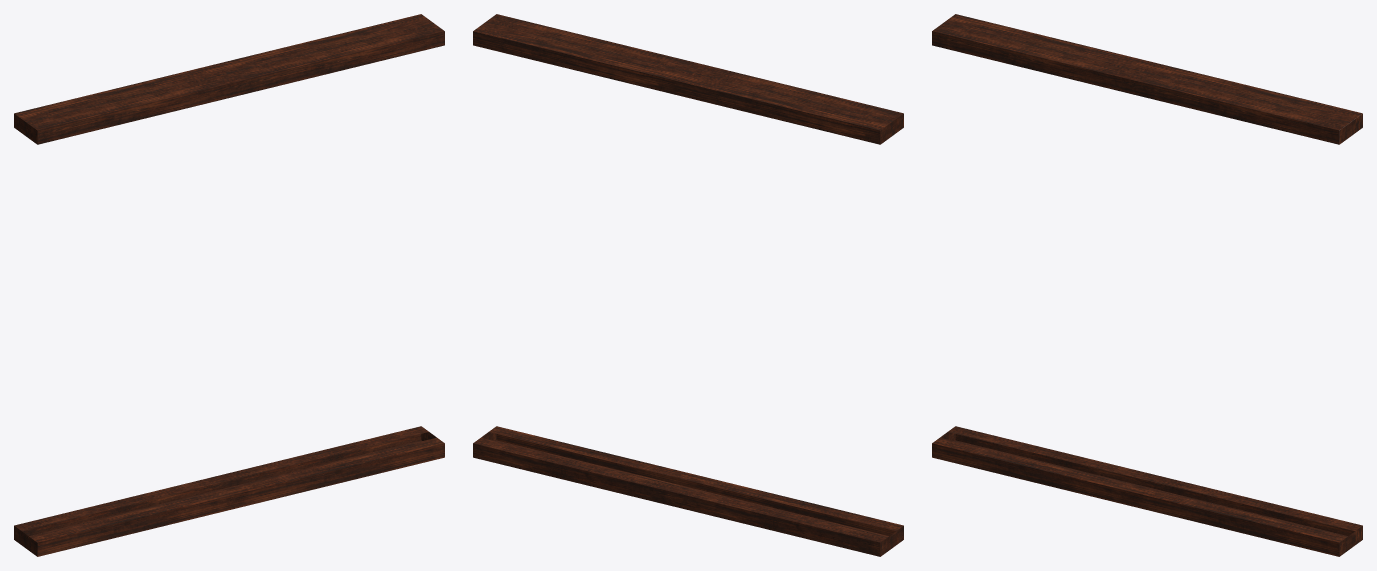
The model's file is KICKPLATES.fbx.
3 renders of one model, left to right at view 1: azimuth 30°, elevation 25°; view 2: azimuth 150°, elevation 25°; view 3: azimuth 330°, elevation 25°, orthographic.
Parts seen in each view (by area): view 1: polySurface68; view 2: polySurface68; view 3: polySurface68.
Part boxes in pixels (x1,y1,x2,y2): polySurface68: (14, 14, 444, 556); polySurface68: (473, 14, 903, 556); polySurface68: (932, 14, 1362, 556).
Size of the model in its own units: 300 by 300 by 30.
